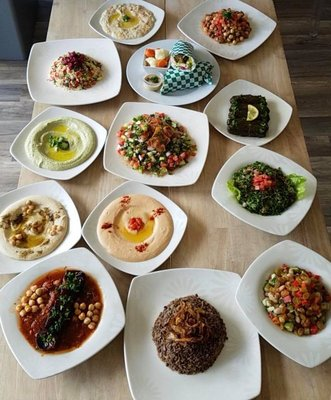curry: (230, 161, 301, 216)
sushi: (122, 268, 264, 399), (1, 247, 126, 380), (236, 240, 331, 368), (82, 180, 188, 276), (210, 144, 317, 237), (103, 102, 211, 186), (9, 106, 108, 181), (1, 181, 82, 261), (26, 38, 122, 105), (204, 78, 293, 148), (177, 0, 277, 60), (93, 0, 165, 45)
